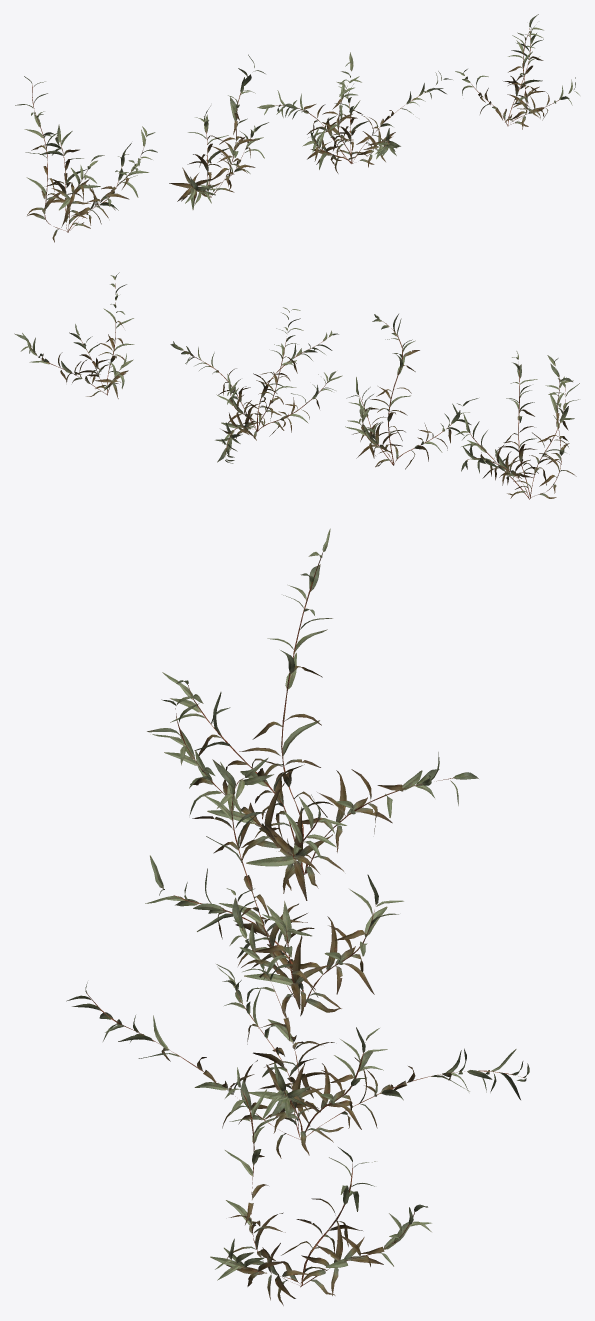
The model's file is shrub_02.glb.
The picture shows the model from 3 angles, top to bottom: view 1: azimuth 30°, elevation 25°; view 2: azimuth 150°, elevation 25°; view 3: azimuth 270°, elevation 25°; orthographic projection. The views are drawn at different scales.
Parts seen in each view (by area): view 1: shrub_02_a; view 2: shrub_02_a; view 3: shrub_02_a.
Part boxes in pixels (x1,y1,x2,y2): shrub_02_a: [15, 14, 579, 242]; shrub_02_a: [14, 272, 579, 499]; shrub_02_a: [66, 528, 529, 1305].
Bounding box in the file's own units: 6.05 × 1.7 × 2.28.
1 material, 1 textured.
